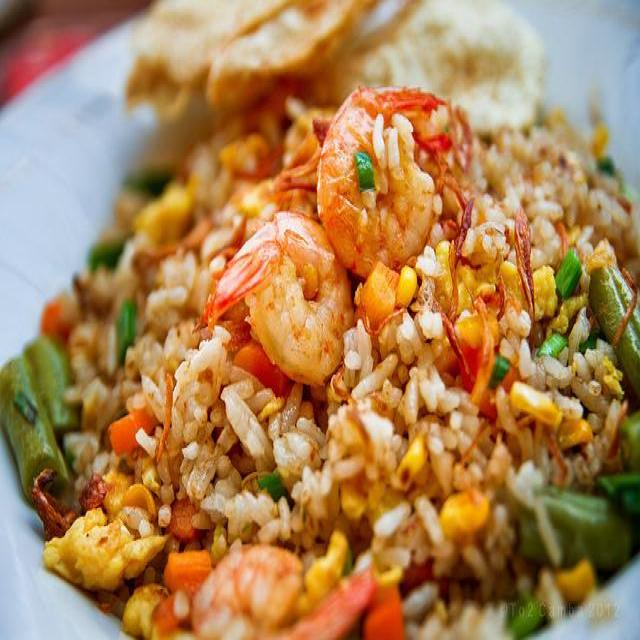Nasi Goreng: (4, 78, 637, 637)
